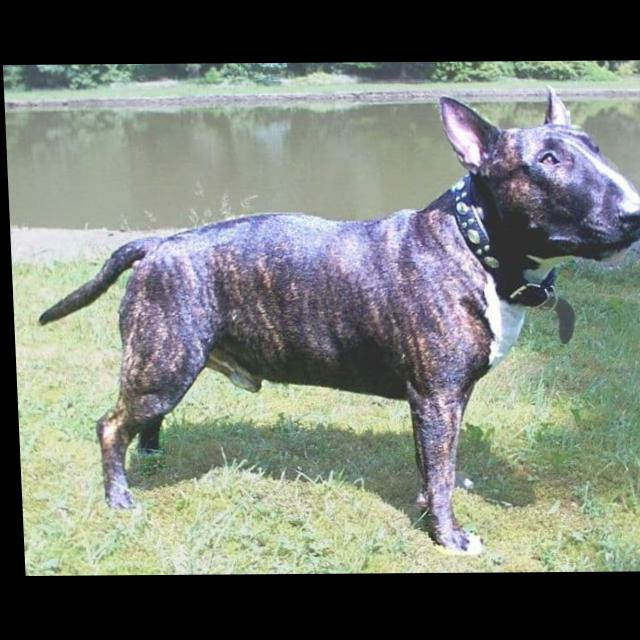bullterrier: (27, 85, 640, 559)
